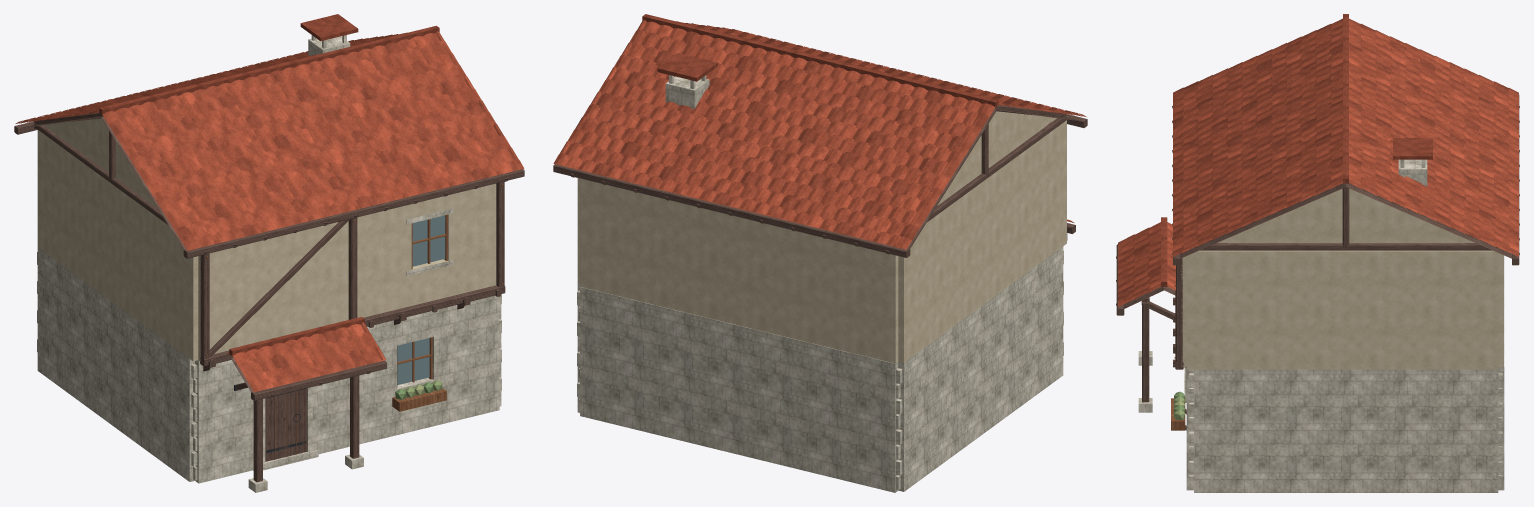
Rendered from B21_vivienda.glb.
3 renders of one model, left to right at view 1: azimuth 30°, elevation 25°; view 2: azimuth 150°, elevation 25°; view 3: azimuth 270°, elevation 25°, orthographic. The views are drawn at different scales.
Visible parts, largest first — view 1: AUR034_B21_clay_tiles, AUR034_B21_upper_plaster, AUR034_B21_lower_masonry, AUR034_B21_porch_clay_tiles, AUR034_B21_fascia-1, AUR034_B21_gable-1, AUR034_B21_entry_leaf0, AUR034_B21_ridge, AUR034_B21_sill, AUR034_B21_window1_glazing, AUR034_B21_brace0, AUR034_B21_porch_fascia-1 (+13 smaller); view 2: AUR034_B21_lower_masonry, AUR034_B21_clay_tiles, AUR034_B21_upper_plaster, AUR034_B21_fascia1, AUR034_B21_gable-1, AUR034_B21_ridge, AUR034_B21_gable_tie-1, AUR034_B21_cowl, AUR034_B21_dressed_corner_stones, AUR034_B21_chimney, AUR034_B21_roof_sheathing; view 3: AUR034_B21_clay_tiles, AUR034_B21_lower_masonry, AUR034_B21_upper_plaster, AUR034_B21_gable1, AUR034_B21_porch_clay_tiles, AUR034_B21_gable_tie1, AUR034_B21_roof_sheathing, AUR034_B21_dressed_corner_stones, AUR034_B21_ridge, AUR034_B21_cowl, AUR034_B21_porch_post1, AUR034_B21_post2 (+3 smaller).
Boxes of the visible parts, left/top/right/bottom form: AUR034_B21_clay_tiles: left=15, top=31, right=524, bottom=250; AUR034_B21_upper_plaster: left=37, top=130, right=496, bottom=361; AUR034_B21_lower_masonry: left=37, top=248, right=501, bottom=483; AUR034_B21_porch_clay_tiles: left=226, top=322, right=385, bottom=392; AUR034_B21_fascia-1: left=183, top=169, right=524, bottom=258; AUR034_B21_gable-1: left=43, top=113, right=157, bottom=208; AUR034_B21_entry_leaf0: left=265, top=388, right=307, bottom=461; AUR034_B21_ridge: left=99, top=25, right=439, bottom=114; AUR034_B21_sill: left=200, top=285, right=505, bottom=366; AUR034_B21_window1_glazing: left=412, top=215, right=445, bottom=266; AUR034_B21_brace0: left=209, top=219, right=349, bottom=356; AUR034_B21_porch_fascia-1: left=251, top=360, right=386, bottom=400; AUR034_B21_lower_masonry: left=577, top=246, right=1063, bottom=492; AUR034_B21_clay_tiles: left=553, top=20, right=1086, bottom=249; AUR034_B21_upper_plaster: left=577, top=120, right=1066, bottom=363; AUR034_B21_fascia1: left=553, top=164, right=910, bottom=257; AUR034_B21_gable-1: left=937, top=105, right=1056, bottom=205; AUR034_B21_ridge: left=642, top=14, right=998, bottom=107; AUR034_B21_gable_tie-1: left=927, top=115, right=1066, bottom=221; AUR034_B21_cowl: left=657, top=53, right=717, bottom=81; AUR034_B21_dressed_corner_stones: left=577, top=250, right=1063, bottom=490; AUR034_B21_chimney: left=665, top=76, right=709, bottom=108; AUR034_B21_roof_sheathing: left=908, top=109, right=1082, bottom=248; AUR034_B21_clay_tiles: left=1173, top=18, right=1518, bottom=256; AUR034_B21_lower_masonry: left=1186, top=255, right=1504, bottom=492; AUR034_B21_upper_plaster: left=1181, top=251, right=1503, bottom=369; AUR034_B21_gable1: left=1199, top=188, right=1492, bottom=250; AUR034_B21_porch_clay_tiles: left=1118, top=222, right=1175, bottom=306; AUR034_B21_gable_tie1: left=1194, top=243, right=1497, bottom=250; AUR034_B21_roof_sheathing: left=1180, top=183, right=1512, bottom=258; AUR034_B21_dressed_corner_stones: left=1189, top=373, right=1502, bottom=488; AUR034_B21_ridge: left=1343, top=14, right=1348, bottom=183; AUR034_B21_cowl: left=1393, top=138, right=1432, bottom=159; AUR034_B21_porch_post1: left=1142, top=302, right=1149, bottom=402; AUR034_B21_post2: left=1176, top=258, right=1182, bottom=365.
Bounding box in the file's own units: 8.96 × 8.18 × 9.29.
Materials: 12 (8 with a texture image).
